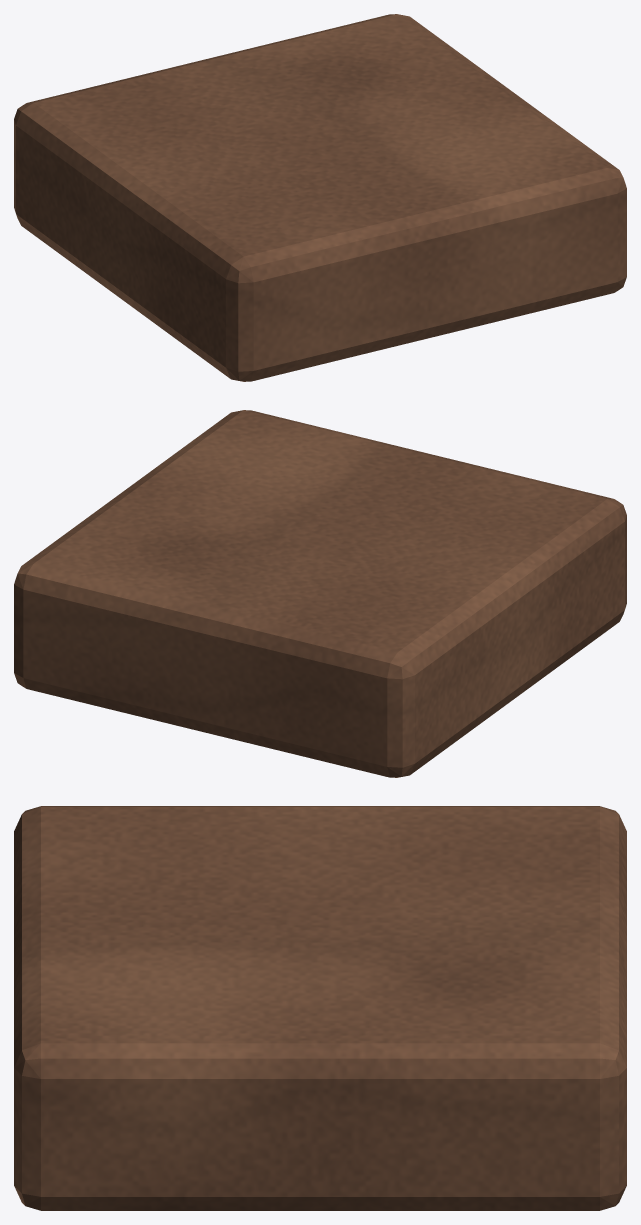
The model's file is LeftFoot.fbx.
3 views of the same model, one above another, from view 1: azimuth 30°, elevation 25°; view 2: azimuth 150°, elevation 25°; view 3: azimuth 270°, elevation 25° (orthographic). The views are drawn at different scales.
Parts seen in each view (by area): view 1: LeftFoot; view 2: LeftFoot; view 3: LeftFoot.
Boxes of the visible parts, x1,y1,x2,y2 form: LeftFoot: (14,14,626,381); LeftFoot: (14,410,626,777); LeftFoot: (14,806,626,1210).
Size of the model in its own units: 1 by 0.3 by 1.
Materials: 1 (1 with a texture image).
